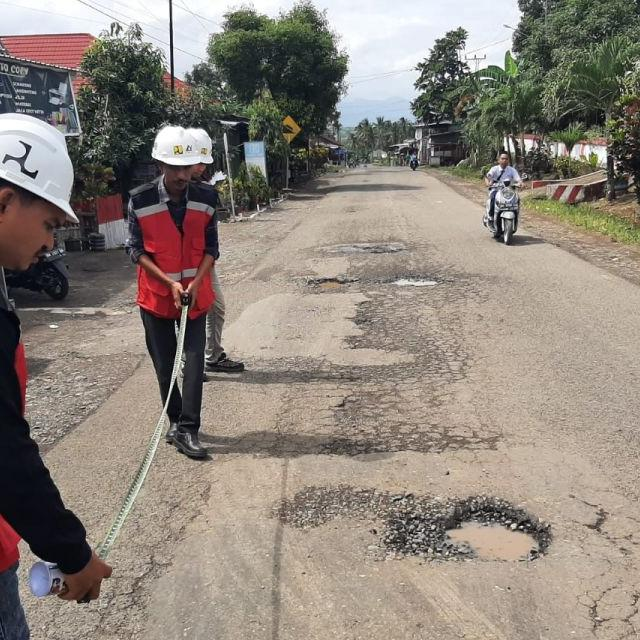lubang_kecil: (411, 469, 567, 600), (374, 267, 474, 301), (310, 267, 361, 310)
retak_kulit_buaya: (324, 359, 480, 454)
retak_memanjang: (578, 497, 640, 640)
